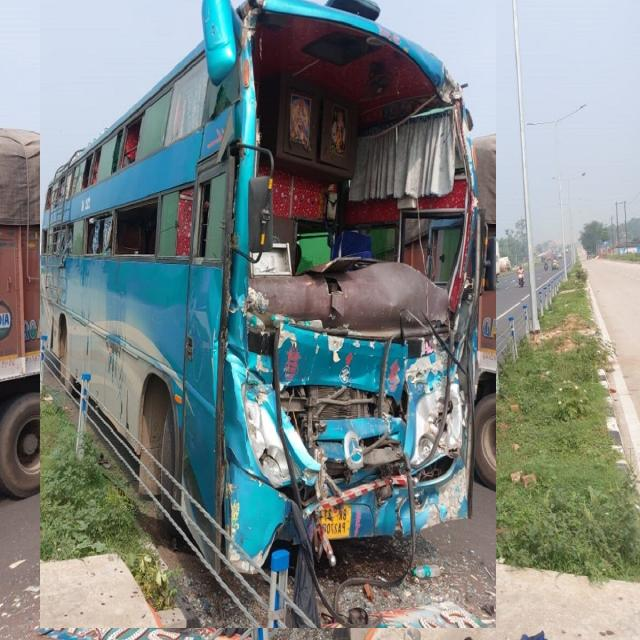accident: (40, 0, 496, 628)
